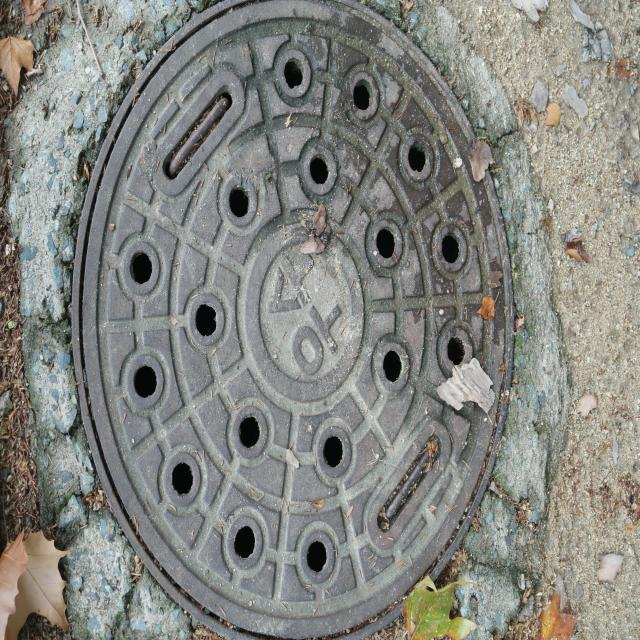manhole: (74, 1, 514, 640)
